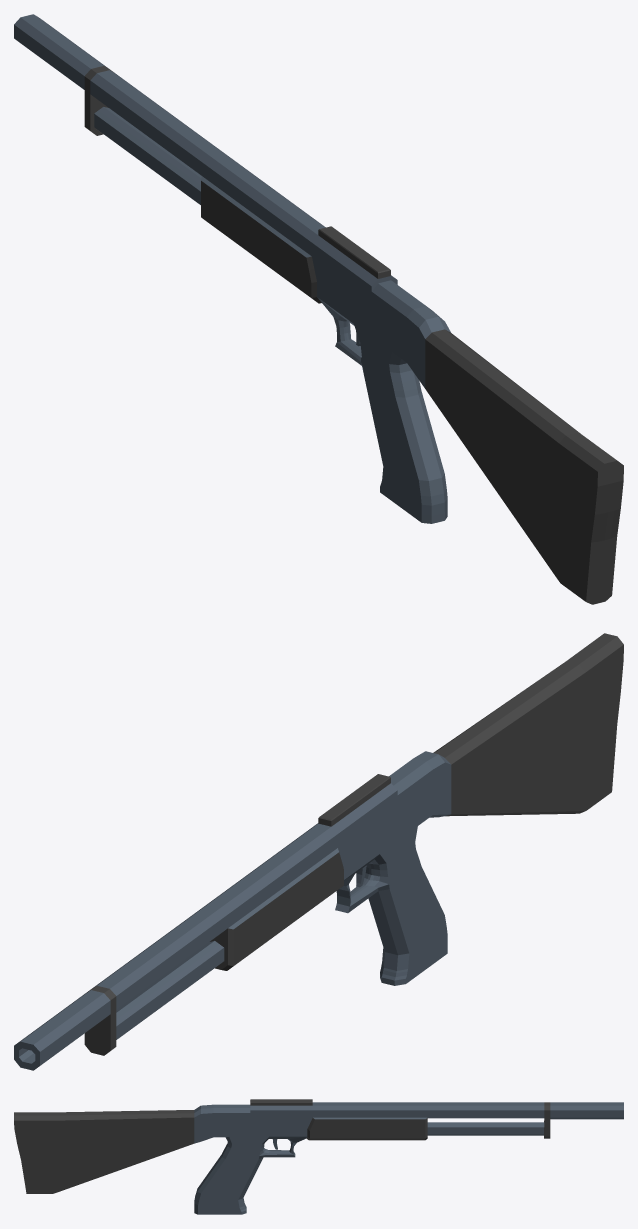
The model's file is Shotgun.fbx.
3 renders of one model, top to bottom at view 1: azimuth 30°, elevation 25°; view 2: azimuth 150°, elevation 25°; view 3: azimuth 270°, elevation 25°, orthographic. The views are drawn at different scales.
Visible parts, largest first — view 1: Gun Shotgun; view 2: Gun Shotgun; view 3: Gun Shotgun.
Part boxes in pixels (left/top/right/bottom): Gun Shotgun: left=14, top=14, right=623, bottom=604; Gun Shotgun: left=14, top=633, right=623, bottom=1070; Gun Shotgun: left=14, top=1099, right=623, bottom=1214.
Bounding box in the file's own units: 20.54 × 127 × 636.
